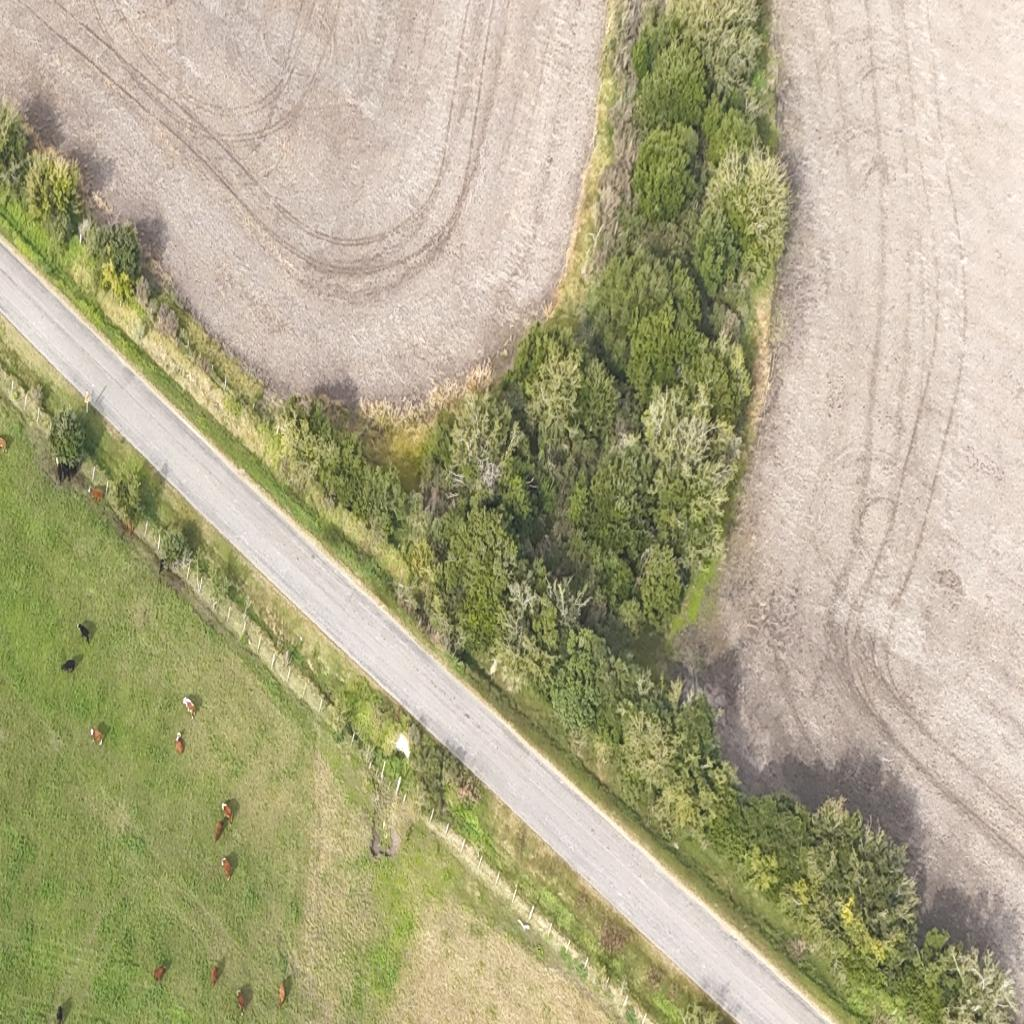cow: (62, 462, 80, 486), (182, 696, 196, 720), (221, 800, 233, 824), (236, 988, 246, 1016), (76, 622, 90, 642), (278, 980, 288, 1006), (60, 657, 76, 673), (222, 857, 232, 881), (214, 819, 224, 843), (210, 964, 220, 988), (154, 964, 166, 984), (88, 487, 100, 505), (89, 726, 101, 744), (175, 732, 184, 754), (124, 518, 134, 536), (56, 1005, 63, 1024), (0, 436, 4, 453)
